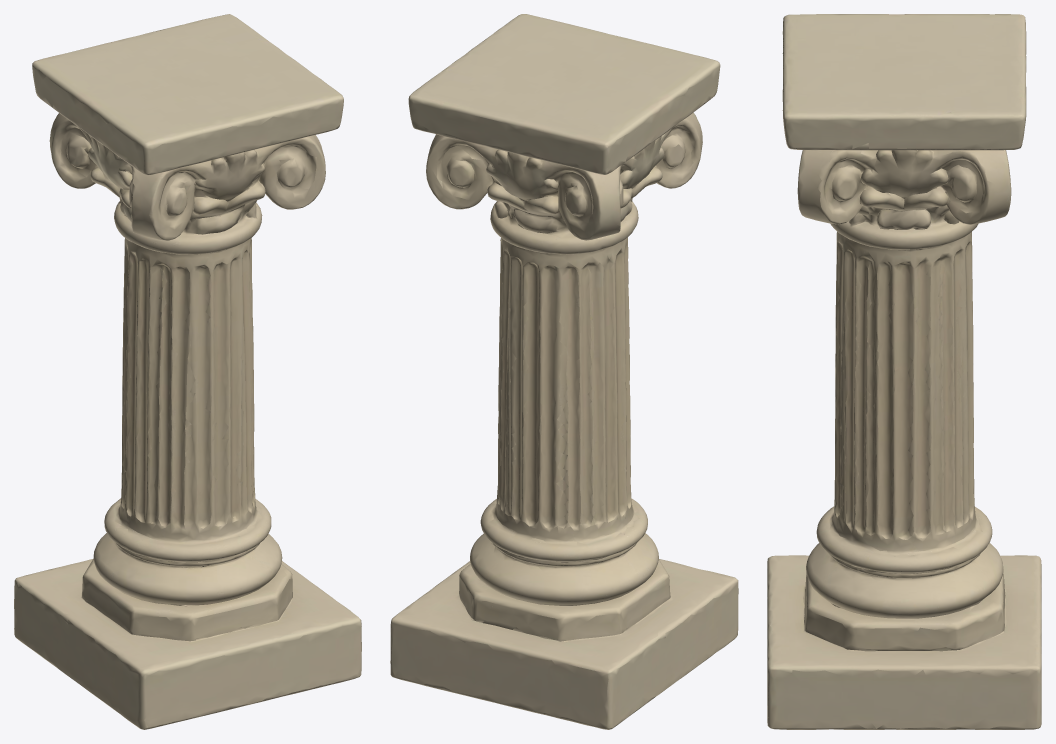
Rendered from column.glb.
3 renders of one model, left to right at view 1: azimuth 30°, elevation 25°; view 2: azimuth 150°, elevation 25°; view 3: azimuth 270°, elevation 25°, orthographic. The views are drawn at different scales.
Parts seen in each view (by area): view 1: Mesh; view 2: Mesh; view 3: Mesh.
Boxes of the visible parts, x1,y1,x2,y2 form: Mesh: (14,14,361,729); Mesh: (390,14,738,729); Mesh: (767,14,1041,729).
Size of the model in its own units: 0.7544 by 1.89 by 0.7674.
Materials: 1 (1 with a texture image).
